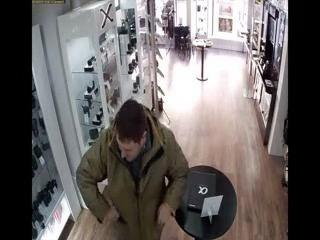shoplifting: (82, 193, 135, 236)
